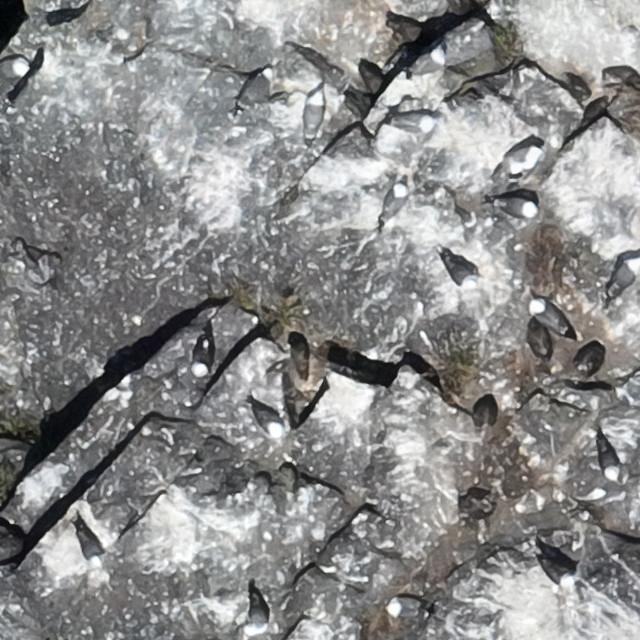umineko: (528, 293, 578, 341), (233, 67, 274, 113), (76, 521, 106, 571), (498, 146, 542, 180), (444, 252, 482, 291), (242, 588, 271, 636), (537, 554, 576, 589), (191, 337, 217, 379), (252, 402, 284, 436), (405, 48, 445, 75), (386, 112, 436, 133), (0, 56, 32, 84), (598, 442, 620, 481), (612, 259, 638, 291), (304, 96, 322, 132), (386, 185, 407, 215), (389, 598, 422, 616), (500, 198, 534, 215)
